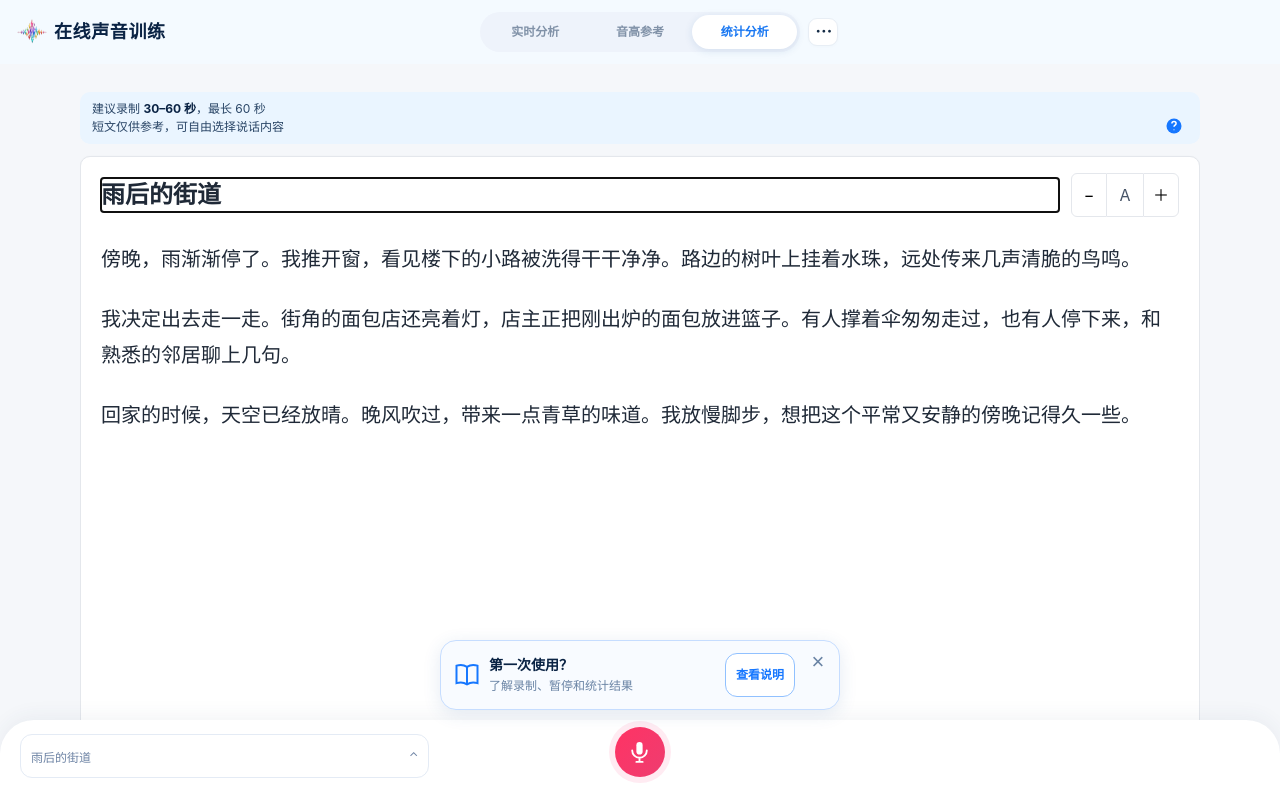
Test: dismisses the reference popup with Escape and outside clicks
Click the button with aria-label "参考内容" at (61, 757), box [20,734,429,778]
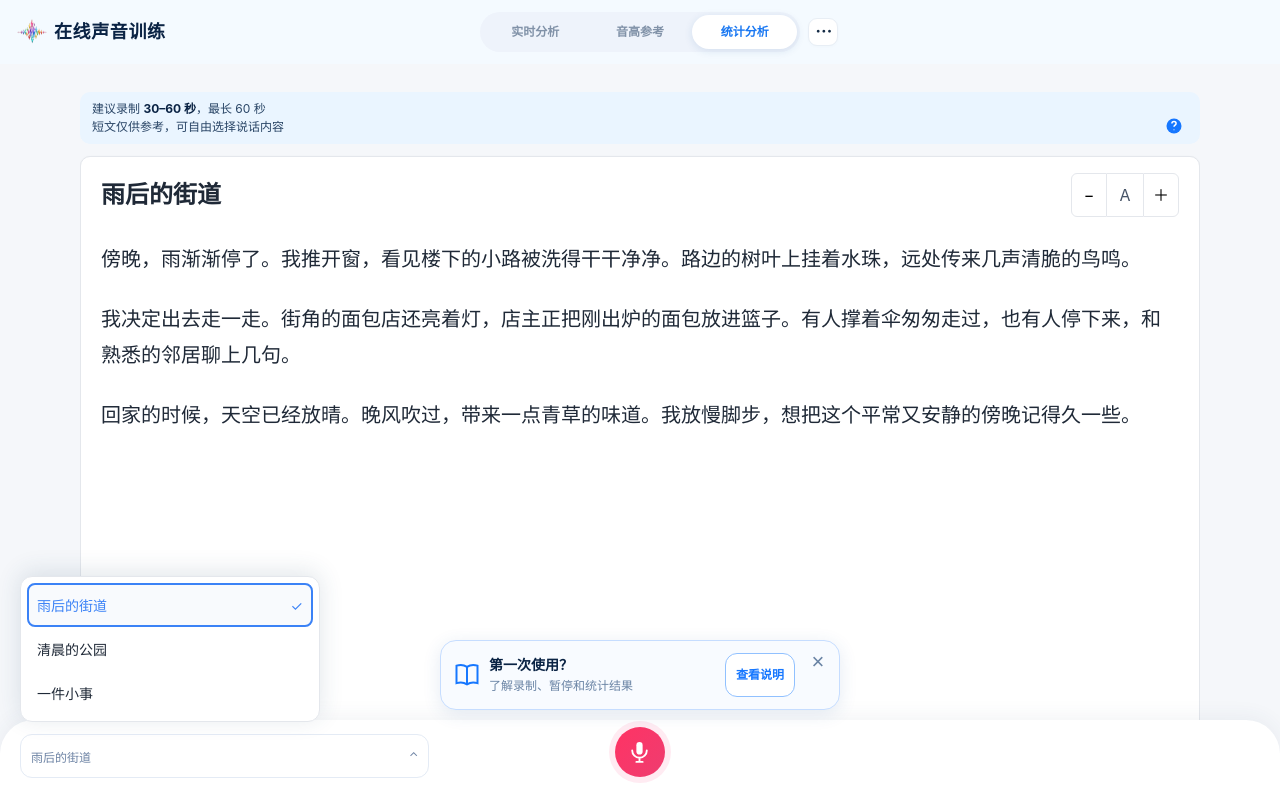
Press ArrowDown in the menu item "雨后的街道 ✓", box [27,583,313,627]
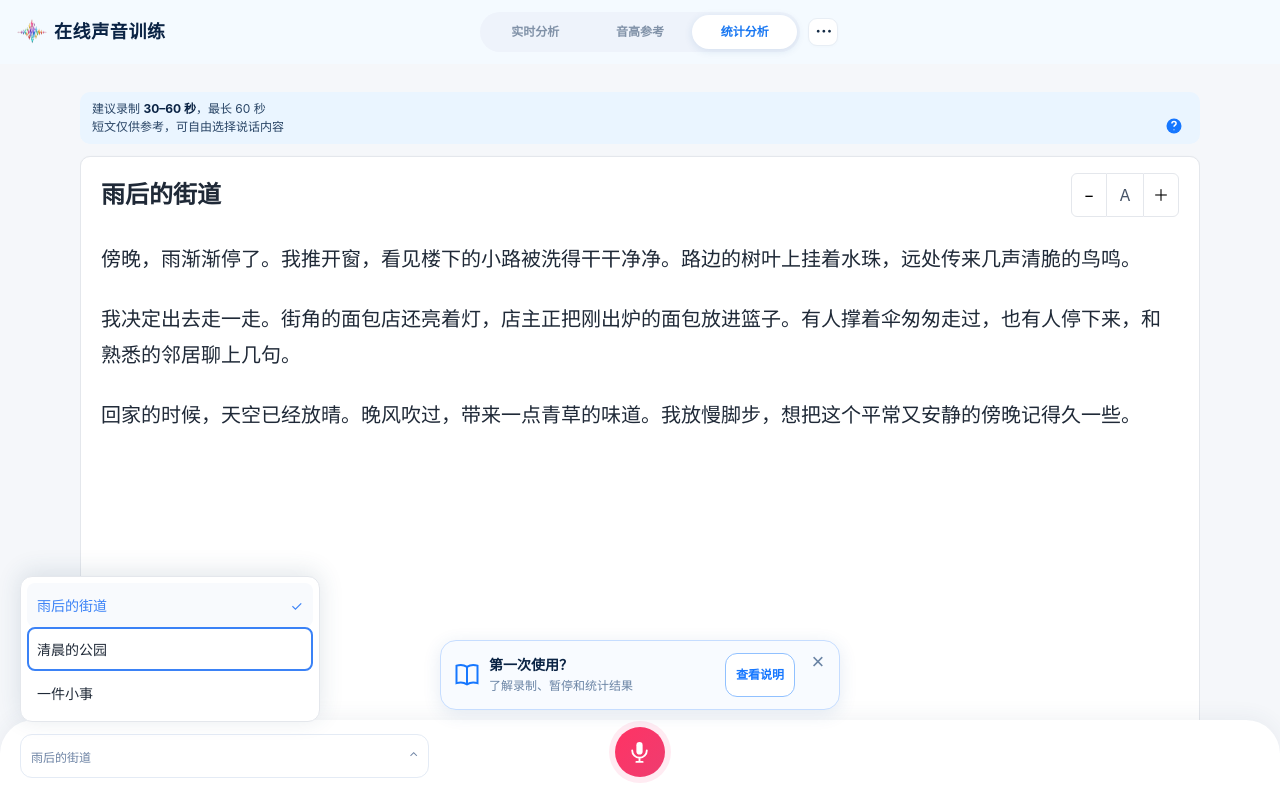
Press Escape
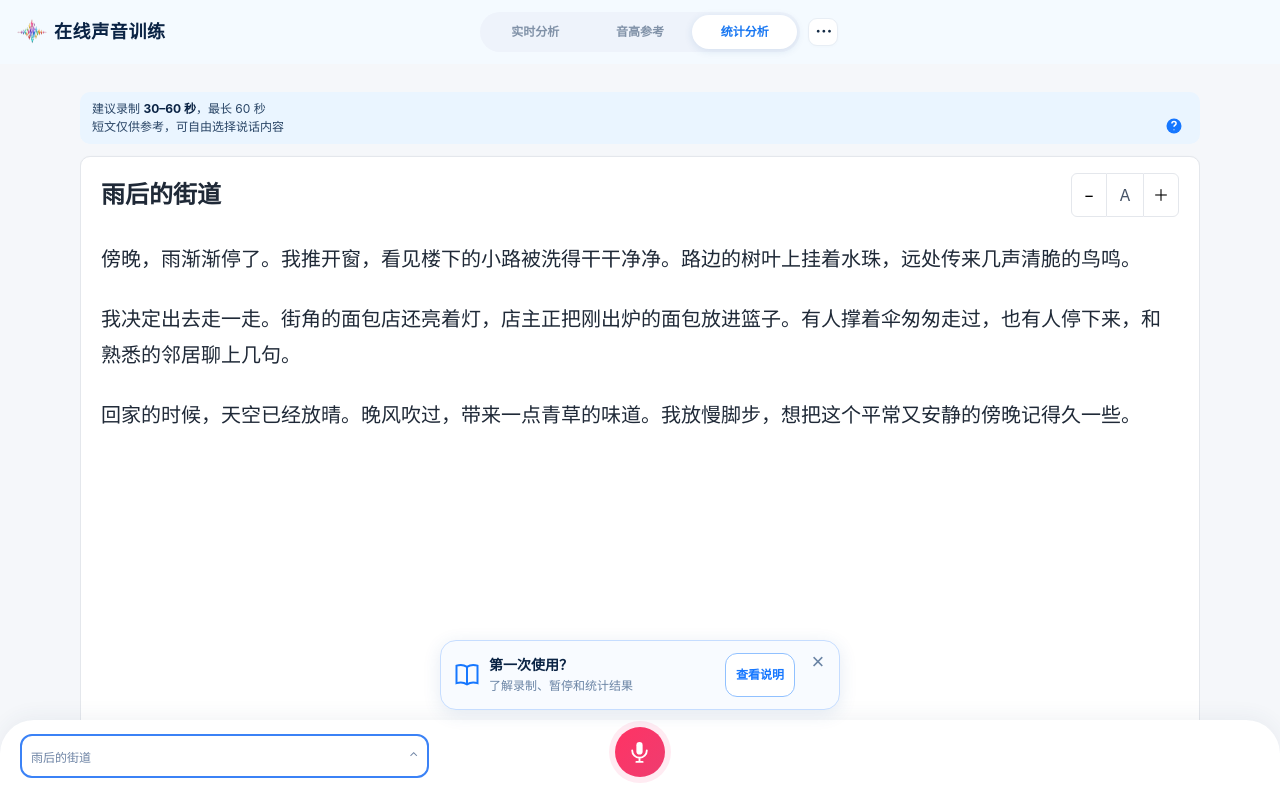
Now the menu "雨后的街道 ✓ 清晨的公园 一件小事" is gone
Click the button with aria-label "参考内容" at (61, 757), box [20,734,429,778]
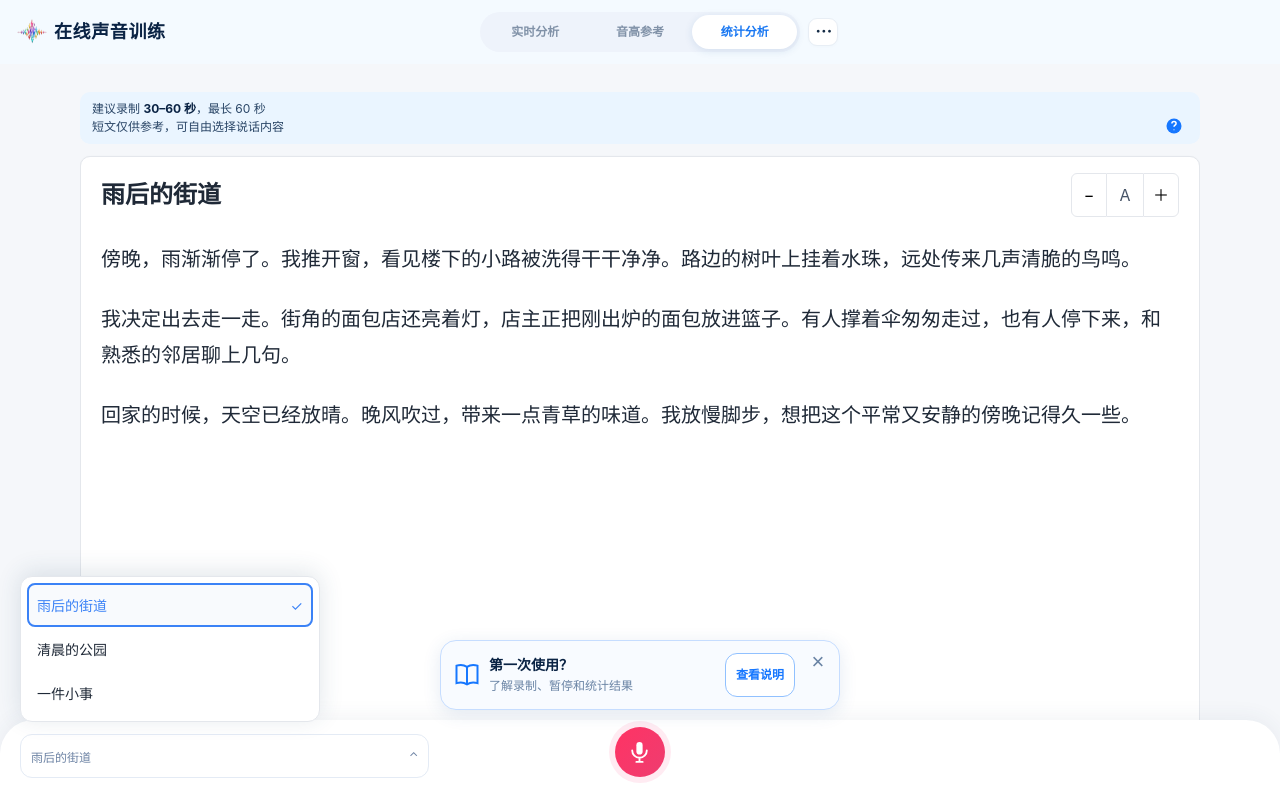
Press the mouse on the heading "雨后的街道" at (161, 195), box [101,180,221,209]
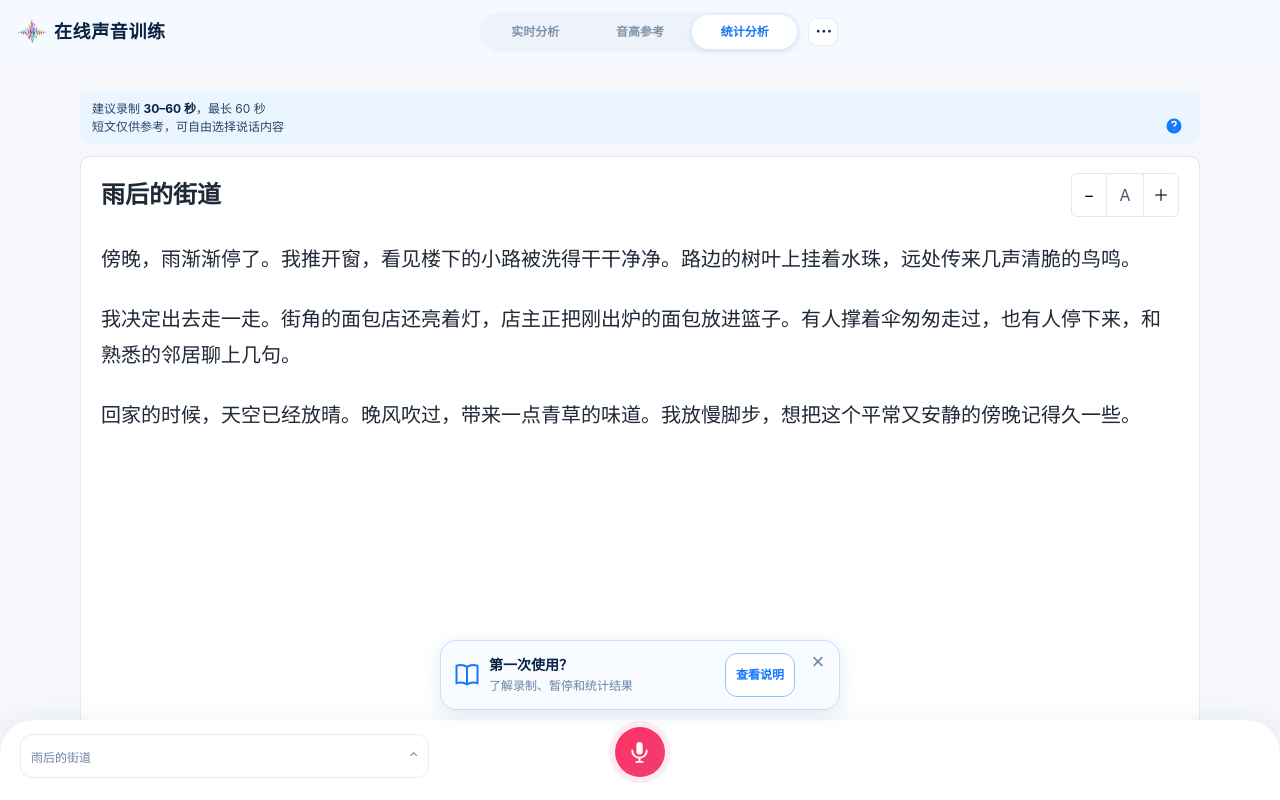
Now the menu "雨后的街道 ✓ 清晨的公园 一件小事" is gone
